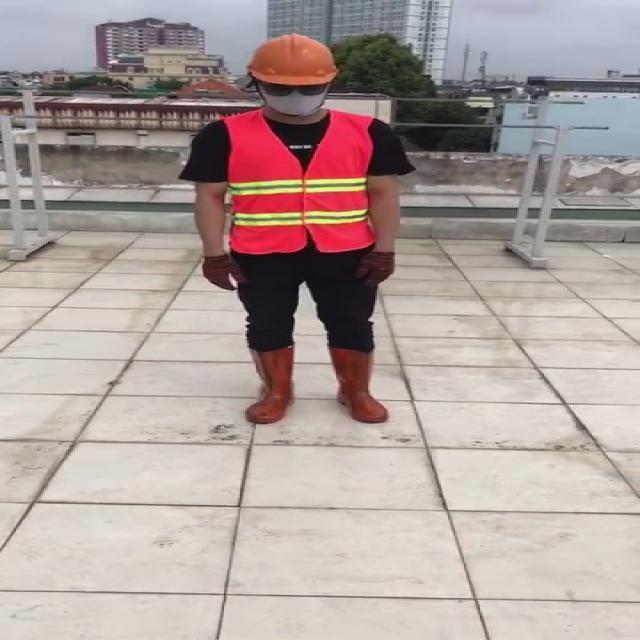helmet: (248, 29, 346, 88)
safety_vest: (225, 114, 374, 253)
